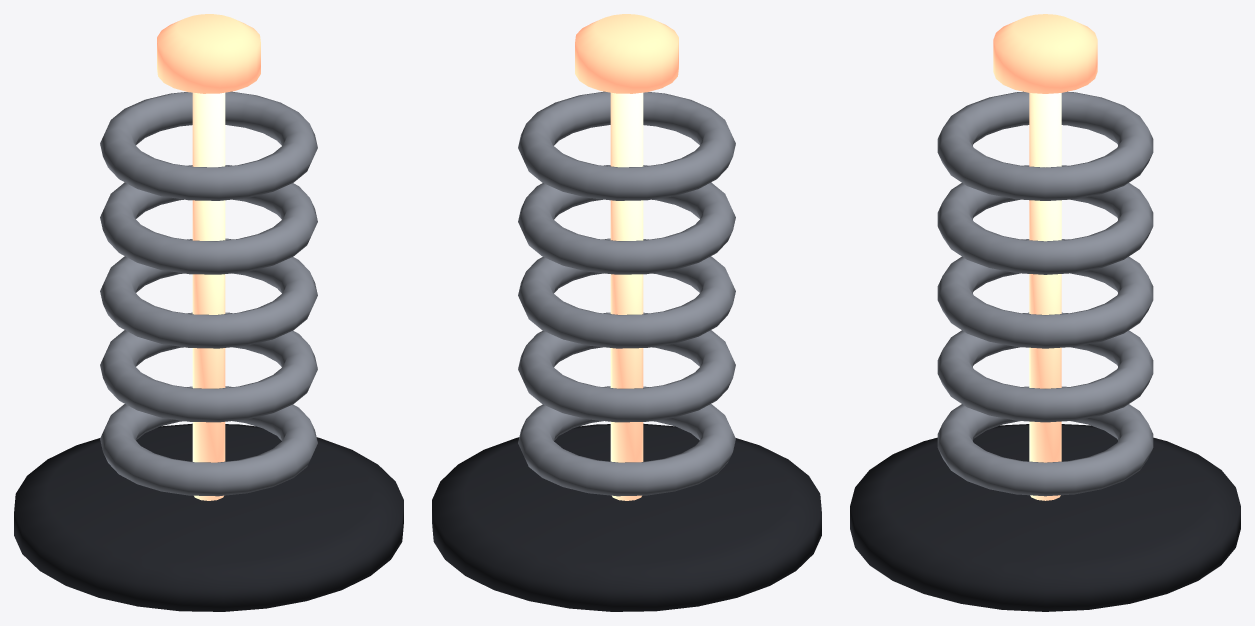
Rendered from coil.glb.
3 renders of one model, left to right at view 1: azimuth 30°, elevation 25°; view 2: azimuth 150°, elevation 25°; view 3: azimuth 270°, elevation 25°, orthographic.
Visible parts, largest first — view 1: coil_base, coil_ring_4, coil_ring_0, coil_ring_2, coil_ring_1, coil_ring_3, coil_core, coil_cap; view 2: coil_base, coil_ring_4, coil_ring_0, coil_ring_2, coil_ring_1, coil_ring_3, coil_core, coil_cap; view 3: coil_base, coil_ring_4, coil_ring_3, coil_ring_0, coil_ring_2, coil_ring_1, coil_core, coil_cap.
Boxes of the visible parts, box(x1,y1,x2,y2) form: coil_base: box(14, 423, 403, 611); coil_ring_4: box(100, 91, 317, 200); coil_ring_0: box(100, 386, 317, 496); coil_ring_2: box(100, 238, 317, 348); coil_ring_1: box(100, 312, 317, 422); coil_ring_3: box(100, 165, 317, 274); coil_core: box(192, 92, 225, 500); coil_cap: box(157, 14, 260, 93); coil_base: box(432, 423, 821, 611); coil_ring_4: box(518, 91, 735, 200); coil_ring_0: box(518, 386, 735, 496); coil_ring_2: box(518, 238, 735, 348); coil_ring_1: box(518, 312, 735, 422); coil_ring_3: box(518, 165, 735, 274); coil_core: box(610, 92, 643, 500); coil_cap: box(575, 14, 678, 93); coil_base: box(850, 424, 1240, 611); coil_ring_4: box(937, 91, 1153, 200); coil_ring_3: box(937, 165, 1153, 274); coil_ring_0: box(937, 386, 1153, 496); coil_ring_2: box(937, 239, 1153, 348); coil_ring_1: box(937, 312, 1153, 422); coil_core: box(1029, 93, 1061, 500); coil_cap: box(993, 14, 1097, 93).
Size of the model in its own units: 1.2 by 1.7 by 1.2.
